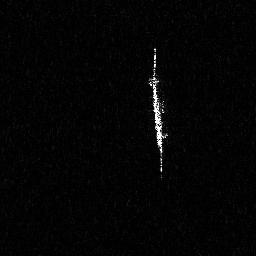ship: (149, 46, 169, 183)
